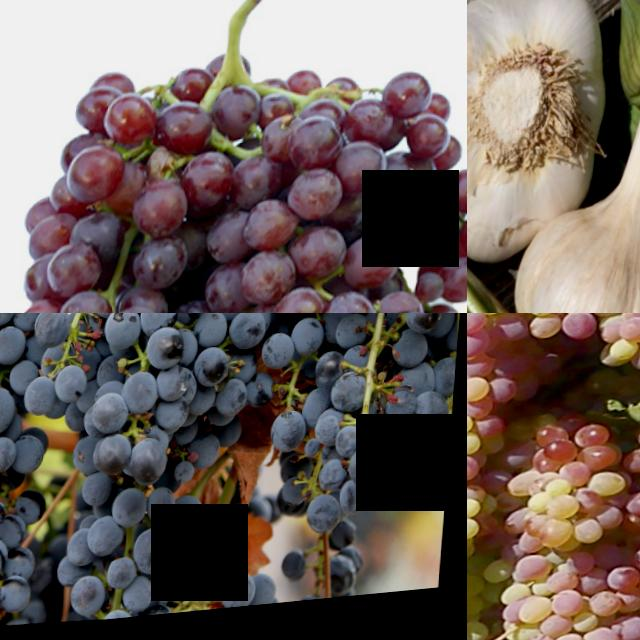garlic: (467, 0, 614, 234), (542, 187, 640, 313)
grapes: (0, 38, 467, 313), (63, 313, 273, 629), (264, 313, 463, 558), (0, 313, 94, 519), (514, 407, 640, 560), (471, 544, 640, 640), (0, 499, 47, 636)
